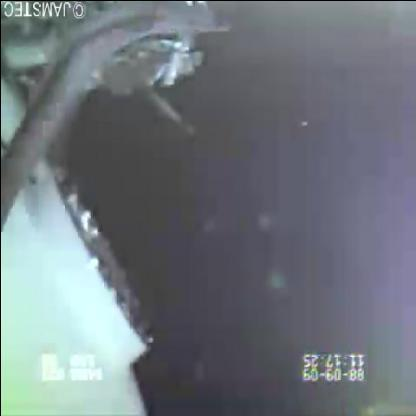Bio: (0, 1, 231, 225)
Rov: (1, 164, 157, 415)
